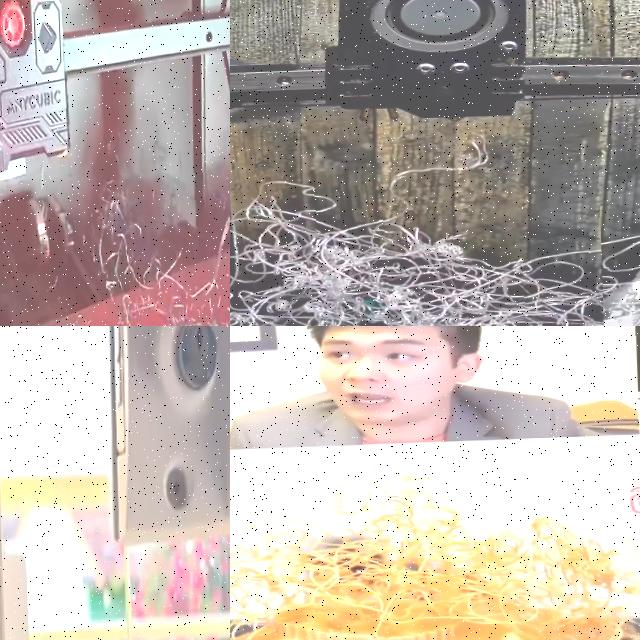spaghetti: (230, 481, 640, 640), (230, 165, 607, 326), (12, 152, 230, 326)
